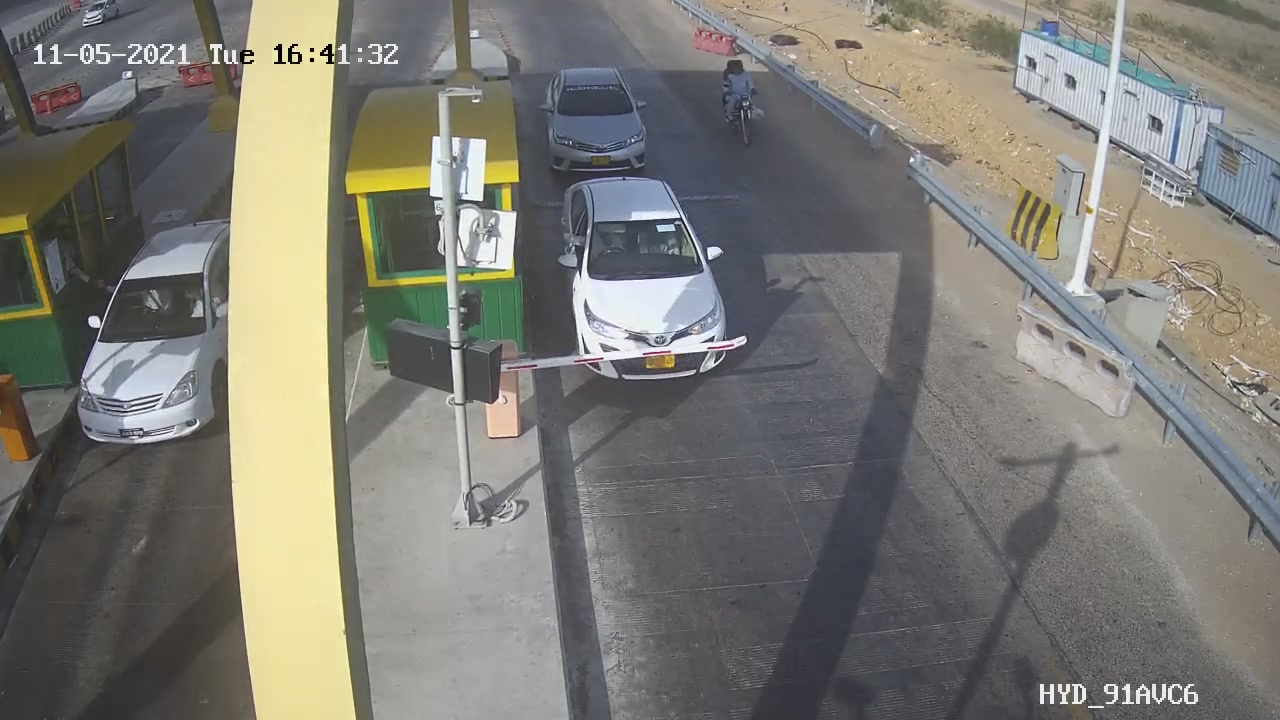F1: (542, 170, 760, 396), (525, 55, 676, 179)
